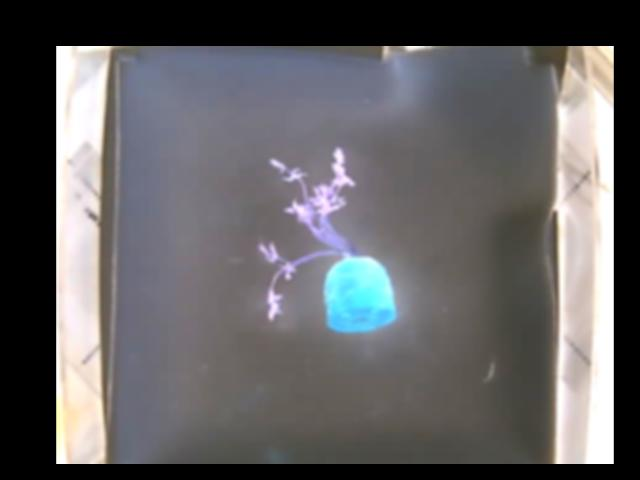Carrot: (261, 148, 395, 331)
